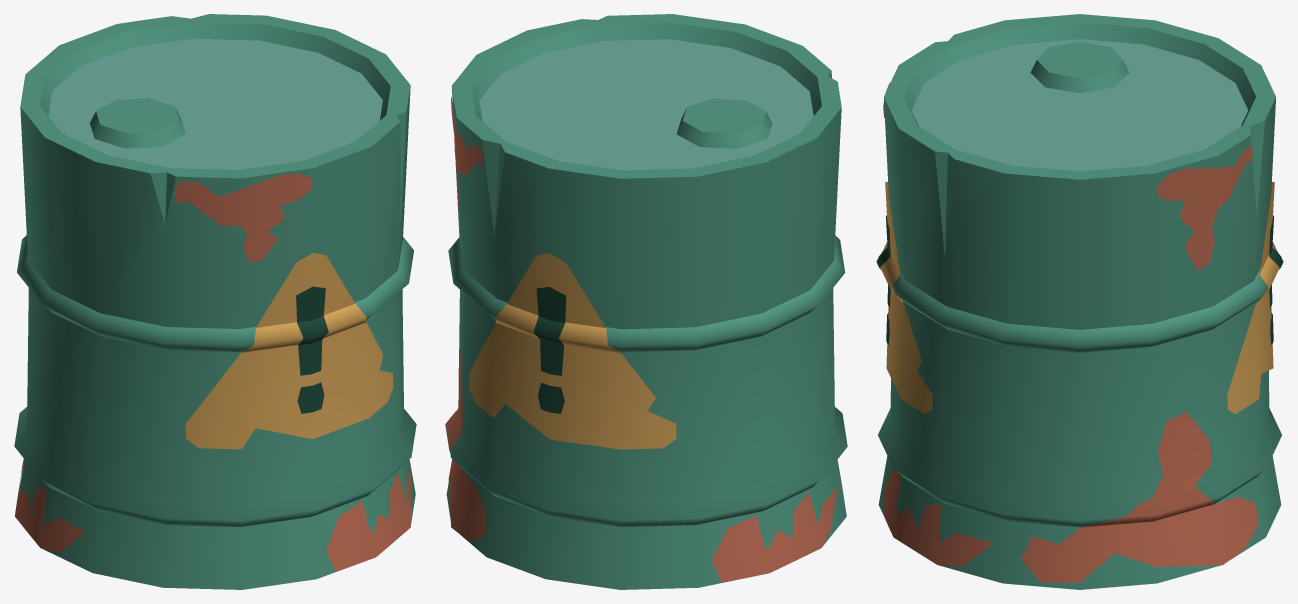
The model's file is BR_ToxicBarrel_01.fbx.
3 renders of one model, left to right at view 1: azimuth 30°, elevation 25°; view 2: azimuth 150°, elevation 25°; view 3: azimuth 270°, elevation 25°, orthographic.
Visible parts, largest first — view 1: BR_ToxicBarrel_01; view 2: BR_ToxicBarrel_01; view 3: BR_ToxicBarrel_01.
Boxes of the visible parts, <box> form: BR_ToxicBarrel_01: <box>14,14,416,589</box>; BR_ToxicBarrel_01: <box>445,14,847,589</box>; BR_ToxicBarrel_01: <box>876,14,1283,589</box>.
Size of the model in its own units: 92.09 by 103 by 92.71.
